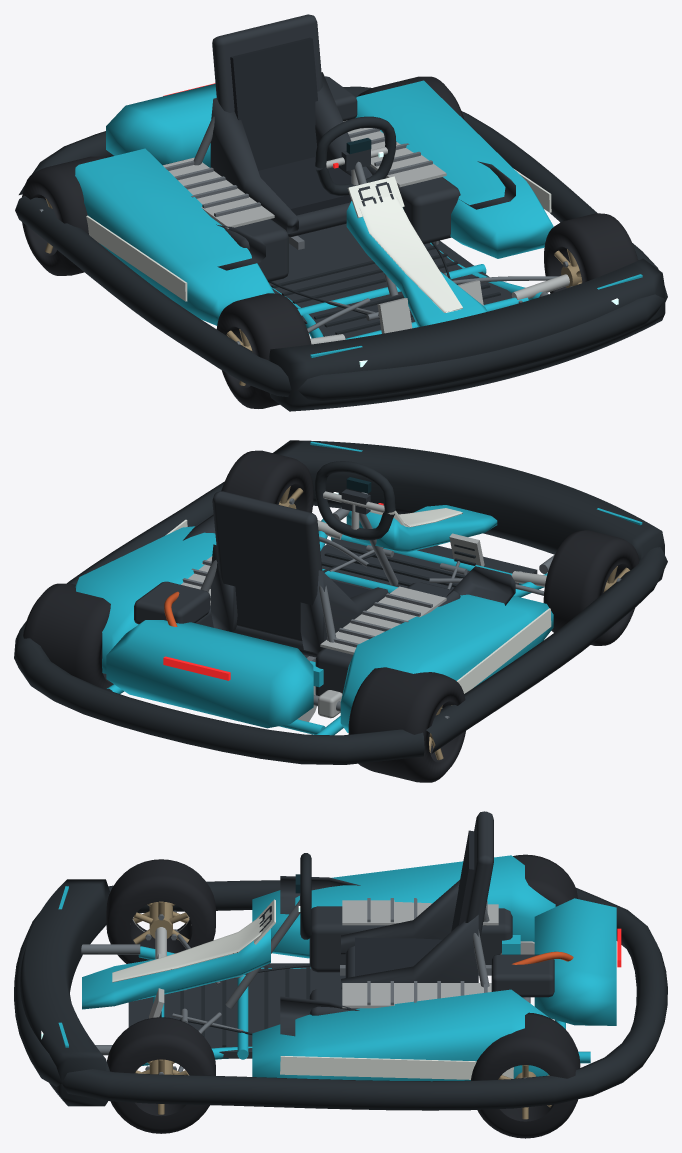
The model's file is photon.glb.
The picture shows the model from 3 angles, top to bottom: view 1: azimuth 30°, elevation 25°; view 2: azimuth 150°, elevation 25°; view 3: azimuth 270°, elevation 25°; orthographic projection.
Parts seen in each view (by area): view 1: Moulded bumper polymer (×3), paint, Satin composite, Slick vulcanised rubber (×4), Seat fabric, Livery ivory, Brushed alloy (×2), Steel fasteners; view 2: Moulded bumper polymer (×3), paint, Satin composite, Slick vulcanised rubber (×4), Brushed alloy (×3), Steel fasteners, Livery ivory, brake_light; view 3: Moulded bumper polymer (×3), paint, Satin composite, Slick vulcanised rubber (×4), Livery ivory, Brushed alloy, Steel fasteners (×2), Seat fabric, Magnesium wheel centres (×2).
Part boxes in pixels (x1=…): Moulded bumper polymer (×3): x1=15, y1=86, x2=667, y2=411; paint: x1=75, y1=80, x2=553, y2=339; Satin composite: x1=167, y1=14, x2=515, y2=338; Slick vulcanised rubber (×4): x1=22, y1=76, x2=638, y2=408; Seat fabric: x1=230, y1=37, x2=351, y2=215; Livery ivory: x1=86, y1=168, x2=551, y2=312; Brushed alloy (×2): x1=163, y1=120, x2=569, y2=344; Steel fasteners: x1=165, y1=116, x2=558, y2=332; Moulded bumper polymer (×3): x1=14, y1=440, x2=667, y2=764; paint: x1=75, y1=505, x2=553, y2=735; Satin composite: x1=134, y1=491, x2=537, y2=695; Slick vulcanised rubber (×4): x1=23, y1=450, x2=639, y2=782; Brushed alloy (×3): x1=181, y1=491, x2=546, y2=721; Steel fasteners: x1=182, y1=513, x2=544, y2=711; Livery ivory: x1=165, y1=508, x2=551, y2=708; brake_light: x1=163, y1=656, x2=230, y2=680; Moulded bumper polymer (×3): x1=14, y1=853, x2=667, y2=1110; paint: x1=82, y1=855, x2=616, y2=1081; Satin composite: x1=128, y1=811, x2=554, y2=1058; Slick vulcanised rubber (×4): x1=106, y1=854, x2=580, y2=1138; Livery ivory: x1=112, y1=899, x2=513, y2=1079; Brushed alloy: x1=155, y1=900, x2=534, y2=1008; Steel fasteners (×2): x1=81, y1=898, x2=530, y2=1072; Seat fabric: x1=355, y1=830, x2=474, y2=976; Magnesium wheel centres (×2): x1=133, y1=901, x2=189, y2=1114.
Bounding box in the file's own units: 2.17 × 1.01 × 2.8.
